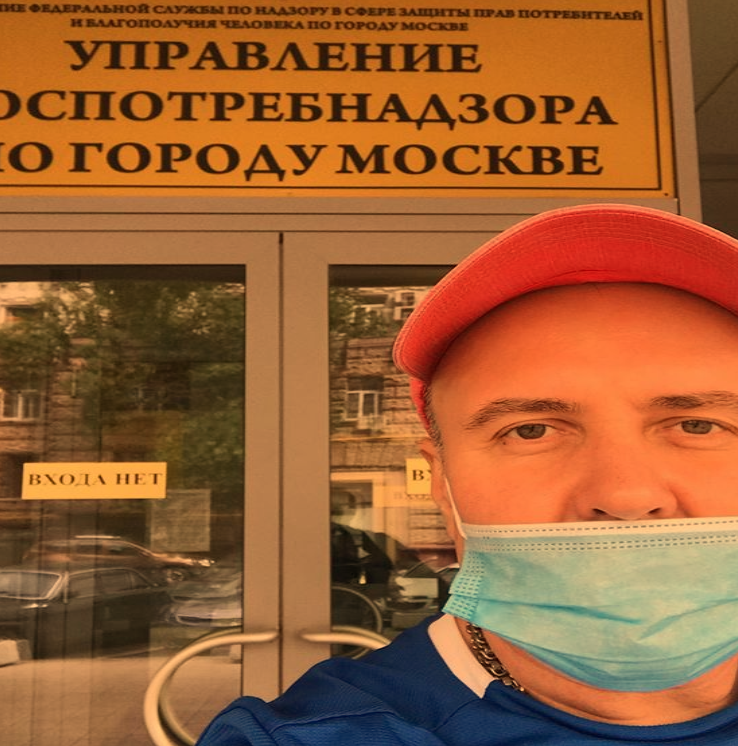mask_weared_incorrect: (420, 240, 737, 683)
